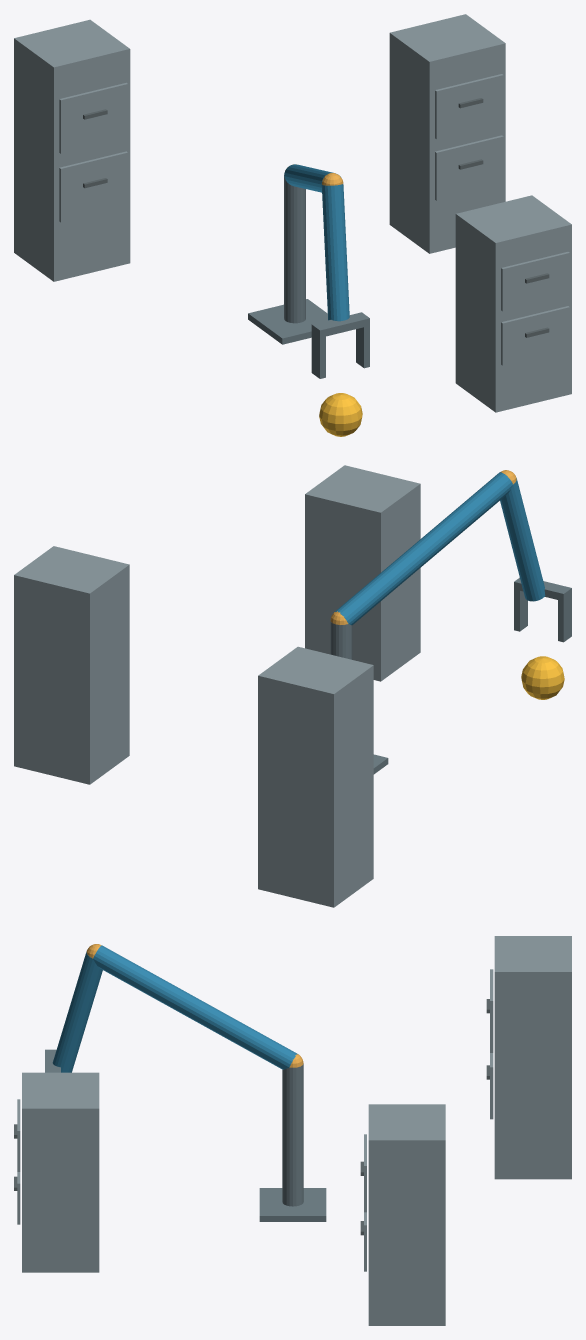
The picture shows the model from 3 angles, top to bottom: view 1: azimuth 30°, elevation 25°; view 2: azimuth 150°, elevation 25°; view 3: azimuth 270°, elevation 25°; orthographic projection. The views are drawn at different scales.
Visible parts, largest first — view 1: cabinet_3 body, cabinet_2 body, cabinet_1 body, cabinet_3 drawer front, cabinet_3 drawer front.001, cabinet_2 drawer front, cabinet_2 drawer front.001, moving link 2, fixed post, cabinet_1 drawer front.001, cabinet_1 drawer front, pedestal (+5 smaller); view 2: cabinet_3 body, cabinet_2 body, cabinet_1 body, moving link 1, moving link 2, ball ball_1, fixed post, gripper finger -1; view 3: cabinet_3 body, cabinet_2 body, cabinet_1 body, moving link 1, fixed post, moving link 2, pedestal.
Part boxes in pixels (<box>): cabinet_3 body: <box>14,19,130,281</box>; cabinet_2 body: <box>389,14,505,253</box>; cabinet_1 body: <box>455,195,571,412</box>; cabinet_3 drawer front: <box>59,151,127,222</box>; cabinet_3 drawer front.001: <box>59,82,127,153</box>; cabinet_2 drawer front: <box>435,135,503,200</box>; cabinet_2 drawer front.001: <box>435,74,503,139</box>; moving link 2: <box>321,184,349,321</box>; fixed post: <box>284,175,305,323</box>; cabinet_1 drawer front.001: <box>501,252,569,311</box>; cabinet_1 drawer front: <box>501,306,569,365</box>; pedestal: <box>248,299,327,344</box>; cabinet_3 body: <box>258,646,373,907</box>; cabinet_2 body: <box>14,546,129,784</box>; cabinet_1 body: <box>305,465,420,681</box>; moving link 1: <box>335,472,512,625</box>; moving link 2: <box>500,478,545,601</box>; ball ball_1: <box>521,656,564,699</box>; fixed post: <box>330,622,352,659</box>; gripper finger -1: <box>558,595,571,642</box>; cabinet_3 body: <box>494,936,571,1179</box>; cabinet_2 body: <box>368,1104,445,1325</box>; cabinet_1 body: <box>22,1072,99,1272</box>; moving link 1: <box>93,945,297,1069</box>; fixed post: <box>282,1064,303,1206</box>; moving link 2: <box>52,952,102,1072</box>; pedestal: <box>259,1188,326,1221</box>.
Size of the model in its own units: 1.62 by 0.9661 by 2.1.
